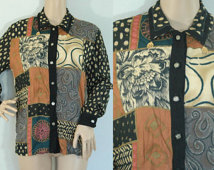C_shirt: (1, 7, 113, 155)
